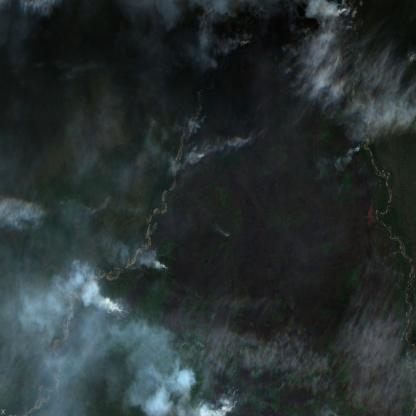fire: (231, 0, 371, 69), (96, 273, 135, 344), (193, 365, 245, 416), (186, 103, 216, 180), (153, 255, 173, 285), (350, 134, 368, 160)
